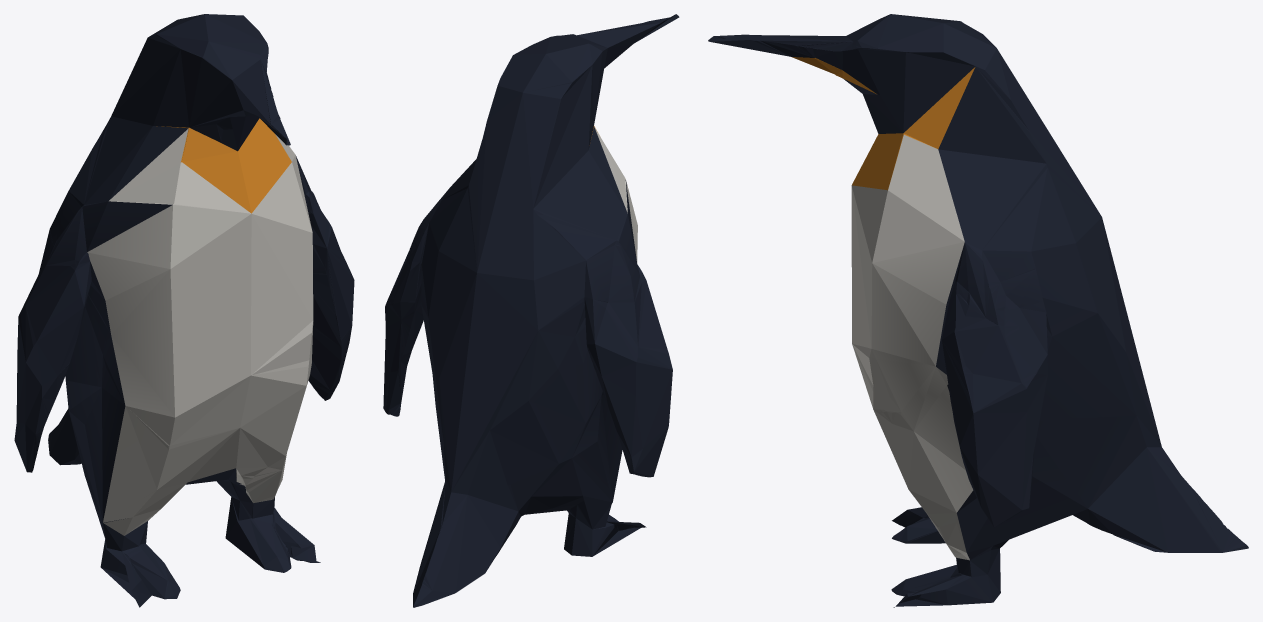
Rendered from penguin.glb.
The picture shows the model from 3 angles, left to right: view 1: azimuth 30°, elevation 25°; view 2: azimuth 150°, elevation 25°; view 3: azimuth 270°, elevation 25°; orthographic projection. The views are drawn at different scales.
Visible parts, largest first — view 1: model; view 2: model; view 3: model.
Boxes of the visible parts, left/top/right/bottom form: model: left=14, top=14, right=354, bottom=607; model: left=383, top=14, right=679, bottom=607; model: left=708, top=14, right=1248, bottom=607.
Bounding box in the file's own units: 0.831 × 1.33 × 1.21.
